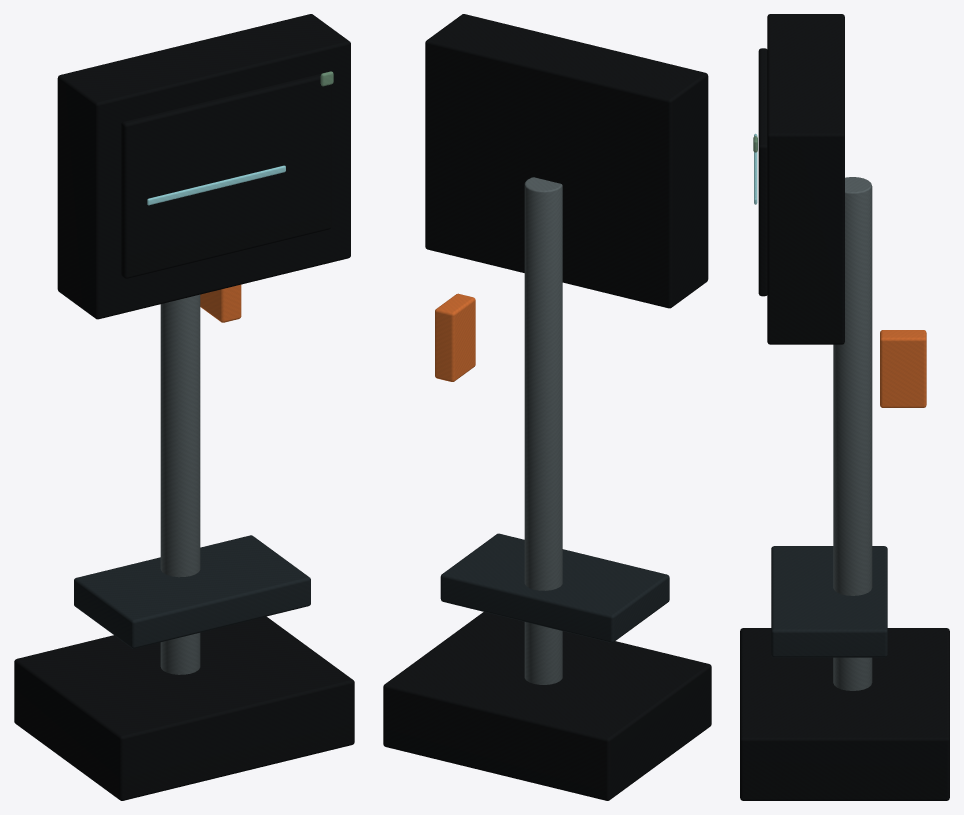
File: MobileMedicalMonitor.glb
3 views of the same model, side by side, from view 1: azimuth 30°, elevation 25°; view 2: azimuth 150°, elevation 25°; view 3: azimuth 270°, elevation 25° (orthographic). The views are drawn at different scales.
Visible parts, largest first — view 1: MobileMedicalMonitor_Mesh; view 2: MobileMedicalMonitor_Mesh; view 3: MobileMedicalMonitor_Mesh.
Part boxes in pixels (left/top/right/bottom): MobileMedicalMonitor_Mesh: left=14, top=14, right=354, bottom=800; MobileMedicalMonitor_Mesh: left=383, top=14, right=711, bottom=800; MobileMedicalMonitor_Mesh: left=740, top=14, right=949, bottom=800.
Size of the model in its own units: 0.74 by 1.91 by 0.54.
6 materials, 6 textured.
